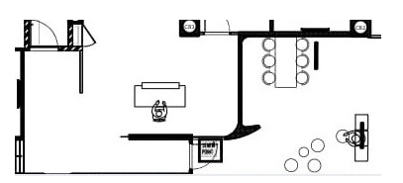Seat: (149, 97, 171, 123)
